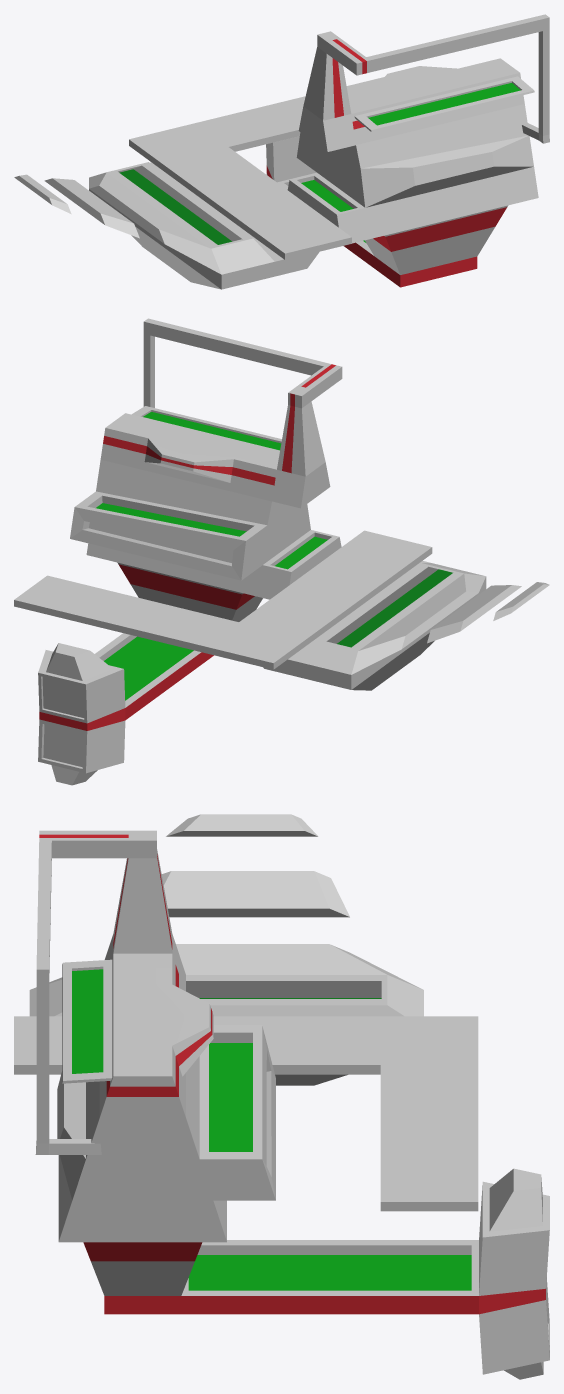
Rendered from Module02_colors.fbx.
3 renders of one model, top to bottom at view 1: azimuth 30°, elevation 25°; view 2: azimuth 150°, elevation 25°; view 3: azimuth 270°, elevation 25°, orthographic. The views are drawn at different scales.
Parts seen in each view (by area): view 1: Plane, Cube.001, Cube; view 2: Plane, Cube.001, Cube; view 3: Plane, Cube.001, Cube.
Part boxes in pixels (bbox=[...]): Plane: bbox=[266, 14, 549, 287]; Cube.001: bbox=[129, 77, 383, 259]; Cube: bbox=[14, 162, 319, 289]; Plane: bbox=[38, 318, 342, 785]; Cube.001: bbox=[14, 530, 432, 669]; Cube: bbox=[263, 560, 549, 690]; Plane: bbox=[35, 830, 549, 1379]; Cube.001: bbox=[14, 1016, 478, 1211]; Cube: bbox=[29, 814, 423, 1085].
Bounding box in the file's own units: 529 × 353 × 370.
